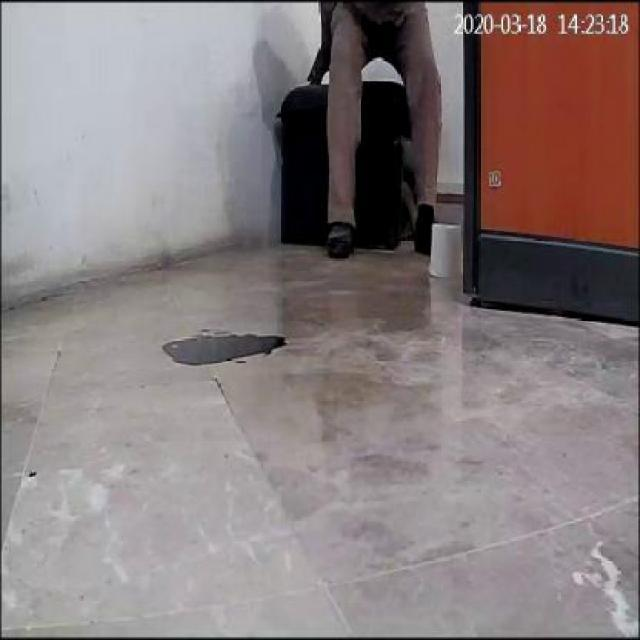spill: (162, 331, 284, 367)
